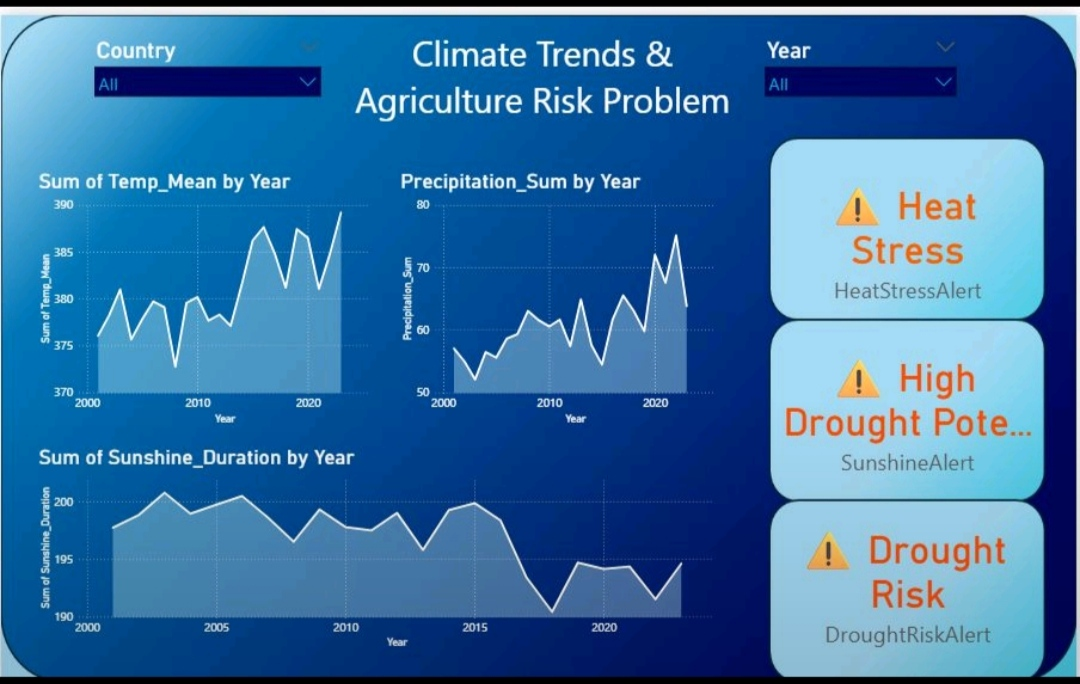

The page's visual inventory and layout, read from the dashboard file:
{"tool":"powerbi","page":{"name":"Page 5","canvas":[1500,930],"ordinal":4},"visuals":[{"type":"shape","box":[456,0,600,168],"z":0},{"type":"lineChart","title":"Maximum Temperature by Year","fields":{"Category":["Master Table.Year"],"Y":["Max(Master Table.Temp_Max)"]},"box":[48,216,480,360],"z":1000},{"type":"slicer","fields":{"Values":["Master Table.Country"]},"box":[120,24,336,120],"z":2000},{"type":"slicer","fields":{"Values":["Master Table.Year"]},"box":[1056,24,288,120],"z":3000},{"type":"lineChart","title":"Precipitation_Sum by Year","fields":{"Category":["Master Table.Year"],"Y":["Master Table.TotalYearlyPrecipitation"]},"box":[552,216,456,360],"z":4000},{"type":"card","fields":{"Values":["Master Table.HeatStressAlert"]},"box":[1071.7,190.8,384,240],"z":5000},{"type":"card","fields":{"Values":["Master Table.SunshineAlert"]},"box":[1071.7,430.8,384,240],"z":6000},{"type":"card","fields":{"Values":["Master Table.DroughtRiskAlert1"]},"box":[1071.7,670.8,384,240],"z":7000},{"type":"lineChart","fields":{"Category":["Master Table.Year"],"Y":["Avg(Master Table.Sunshine_Duration)"]},"box":[48,600,960,288],"z":8000}]}

Visuals, with their boxes in screenshot pixels (x1, y1, x2, y2), scaled from the page's 1500x930 canvas onto the 1080x684 screenshot:
shape: crop(328, 0, 760, 124)
"Maximum Temperature by Year" lineChart: crop(35, 159, 380, 424)
slicer - Master Table.Country: crop(86, 18, 328, 106)
slicer - Master Table.Year: crop(760, 18, 968, 106)
"Precipitation_Sum by Year" lineChart: crop(397, 159, 726, 424)
card - Master Table.HeatStressAlert: crop(772, 140, 1048, 317)
card - Master Table.SunshineAlert: crop(772, 317, 1048, 493)
card - Master Table.DroughtRiskAlert1: crop(772, 493, 1048, 670)
lineChart - Master Table.Year x Avg(Master Table.Sunshine_Duration): crop(35, 441, 726, 653)
